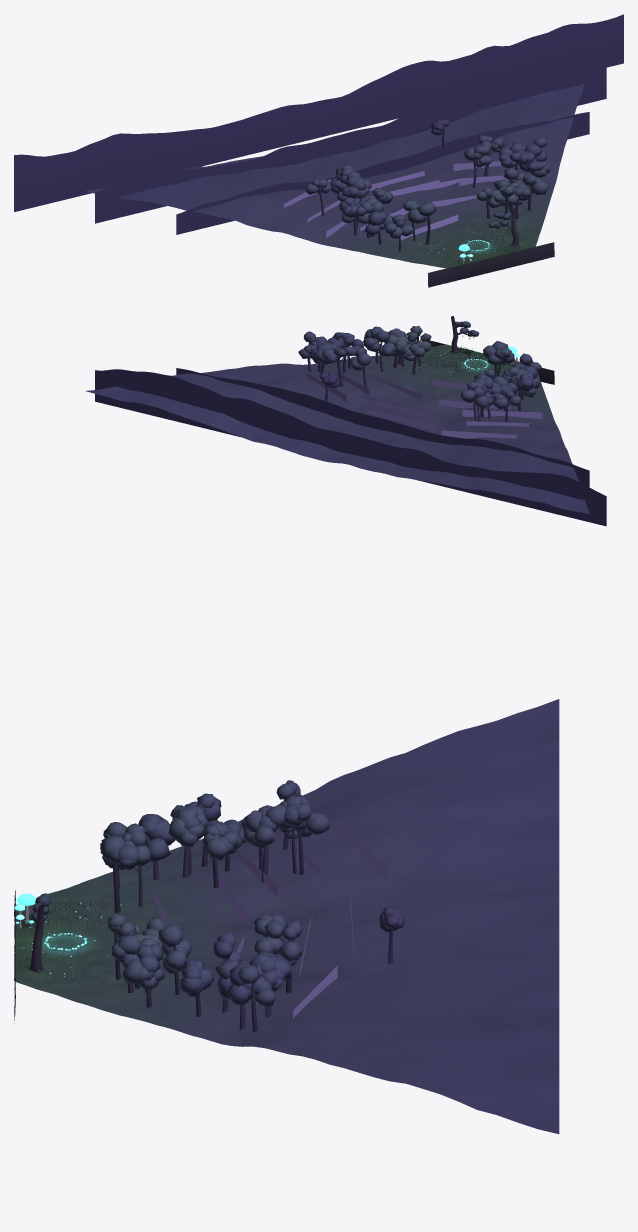
The model's file is backdrop_1.glb.
The picture shows the model from 3 angles, top to bottom: view 1: azimuth 30°, elevation 25°; view 2: azimuth 150°, elevation 25°; view 3: azimuth 270°, elevation 25°; orthographic projection. The views are drawn at different scales.
Visible parts, largest first — view 1: far_hills, mid_ground, mid_leaves, mid_mist, fg_bank, mid_trees, mid_grass; view 2: mid_ground, far_hills, mid_leaves, mid_mist, mid_trees, mid_grass; view 3: mid_ground, mid_leaves, mid_trees, mid_mist, mid_grass.
Part boxes in pixels (x1=…): far_hills: x1=14, y1=14, x2=623, y2=234; mid_ground: x1=85, y1=83, x2=584, y2=268; mid_leaves: x1=305, y1=135, x2=550, y2=238; mid_mist: x1=283, y1=161, x2=507, y2=240; fg_bank: x1=428, y1=242, x2=554, y2=287; mid_trees: x1=317, y1=148, x2=532, y2=251; mid_grass: x1=422, y1=227, x2=529, y2=264; mid_ground: x1=85, y1=344, x2=589, y2=514; far_hills: x1=95, y1=368, x2=606, y2=526; mid_leaves: x1=298, y1=325, x2=541, y2=409; mid_mist: x1=306, y1=373, x2=542, y2=438; mid_trees: x1=307, y1=336, x2=524, y2=422; mid_grass: x1=421, y1=349, x2=520, y2=375; mid_ground: x1=15, y1=699, x2=559, y2=1133; mid_leaves: x1=100, y1=780, x2=330, y2=1005; mid_trees: x1=113, y1=821, x2=305, y2=1031; mid_mist: x1=152, y1=816, x2=386, y2=1018; mid_grass: x1=15, y1=899, x2=107, y2=983.
Size of the model in its own units: 386 by 39.51 by 189.
